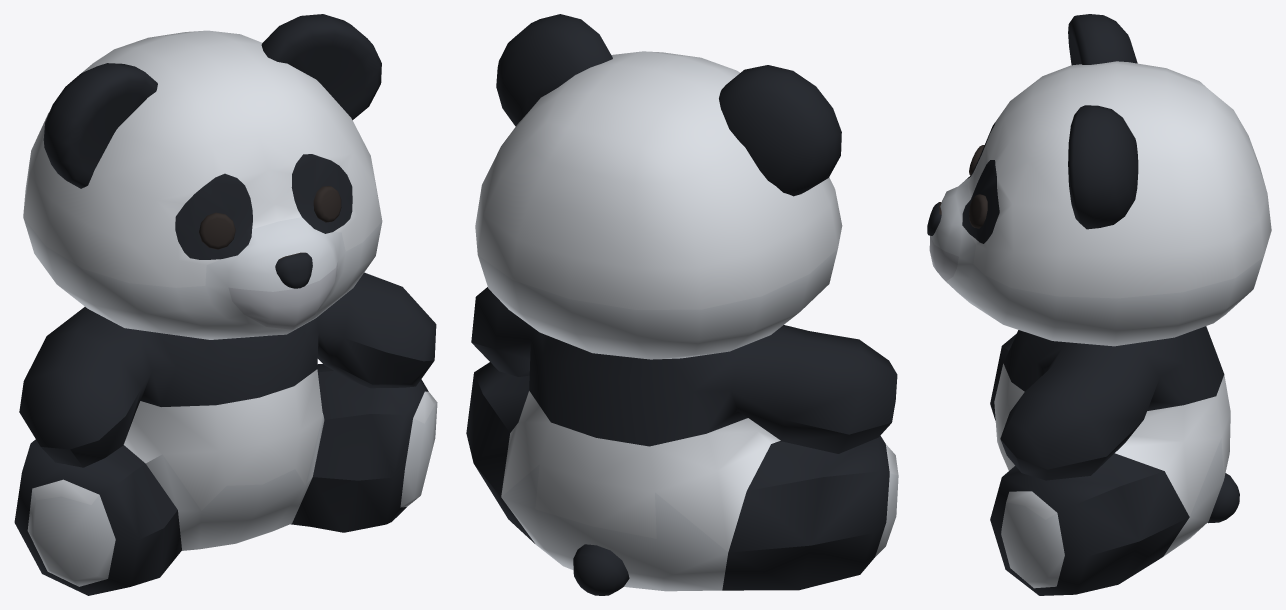
Rendered from pelucia_panda_pacote.glb.
3 renders of one model, left to right at view 1: azimuth 30°, elevation 25°; view 2: azimuth 150°, elevation 25°; view 3: azimuth 270°, elevation 25°, orthographic. The views are drawn at different scales.
Visible parts, largest first — view 1: pelucia_panda_pacote; view 2: pelucia_panda_pacote; view 3: pelucia_panda_pacote.
Part boxes in pixels (x1,y1,x2,y2): pelucia_panda_pacote: [14, 14, 437, 595]; pelucia_panda_pacote: [466, 14, 898, 595]; pelucia_panda_pacote: [927, 14, 1271, 595].
Size of the model in its own units: 0.3281 by 0.3938 by 0.261.
Materials: 1 (1 with a texture image).
